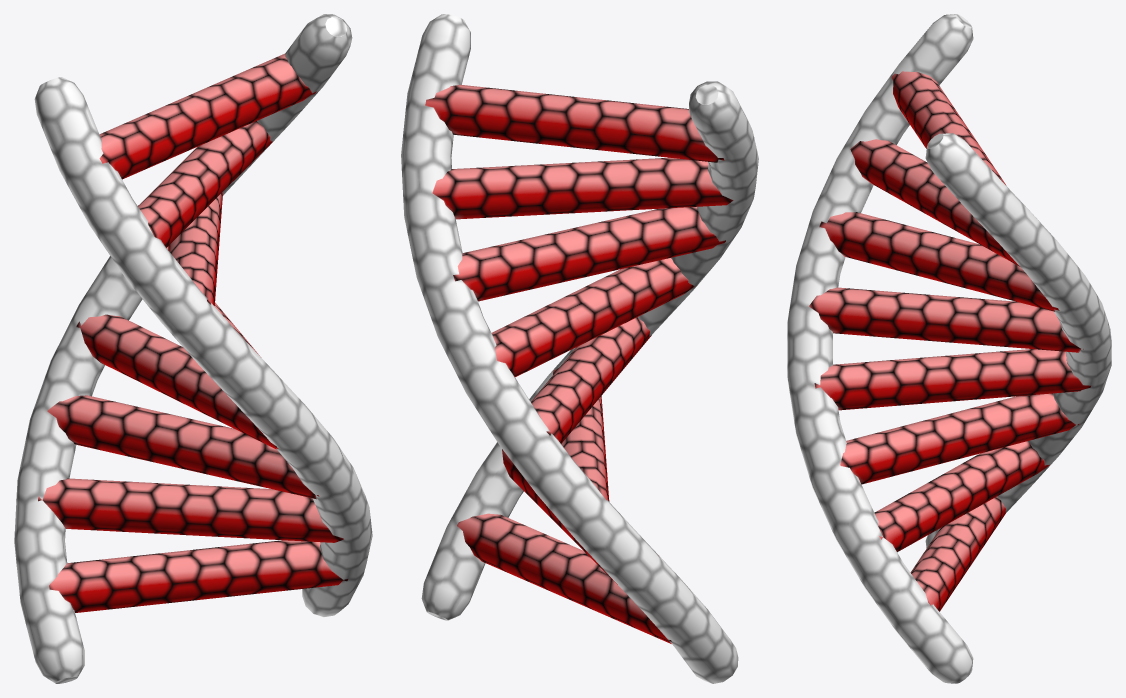
File: Unity HD Render Pipeline (Metallic Standard).glb
3 views of the same model, side by side, from view 1: azimuth 30°, elevation 25°; view 2: azimuth 150°, elevation 25°; view 3: azimuth 270°, elevation 25° (orthographic). The views are drawn at different scales.
Visible parts, largest first — view 1: DNA Strand; view 2: DNA Strand; view 3: DNA Strand.
Part boxes in pixels (<box>): DNA Strand: <box>14,14,372,683</box>; DNA Strand: <box>401,14,758,683</box>; DNA Strand: <box>787,14,1111,683</box>.
Bounding box in the file's own units: 2.83 × 5.23 × 2.81.
1 material, 1 textured.
